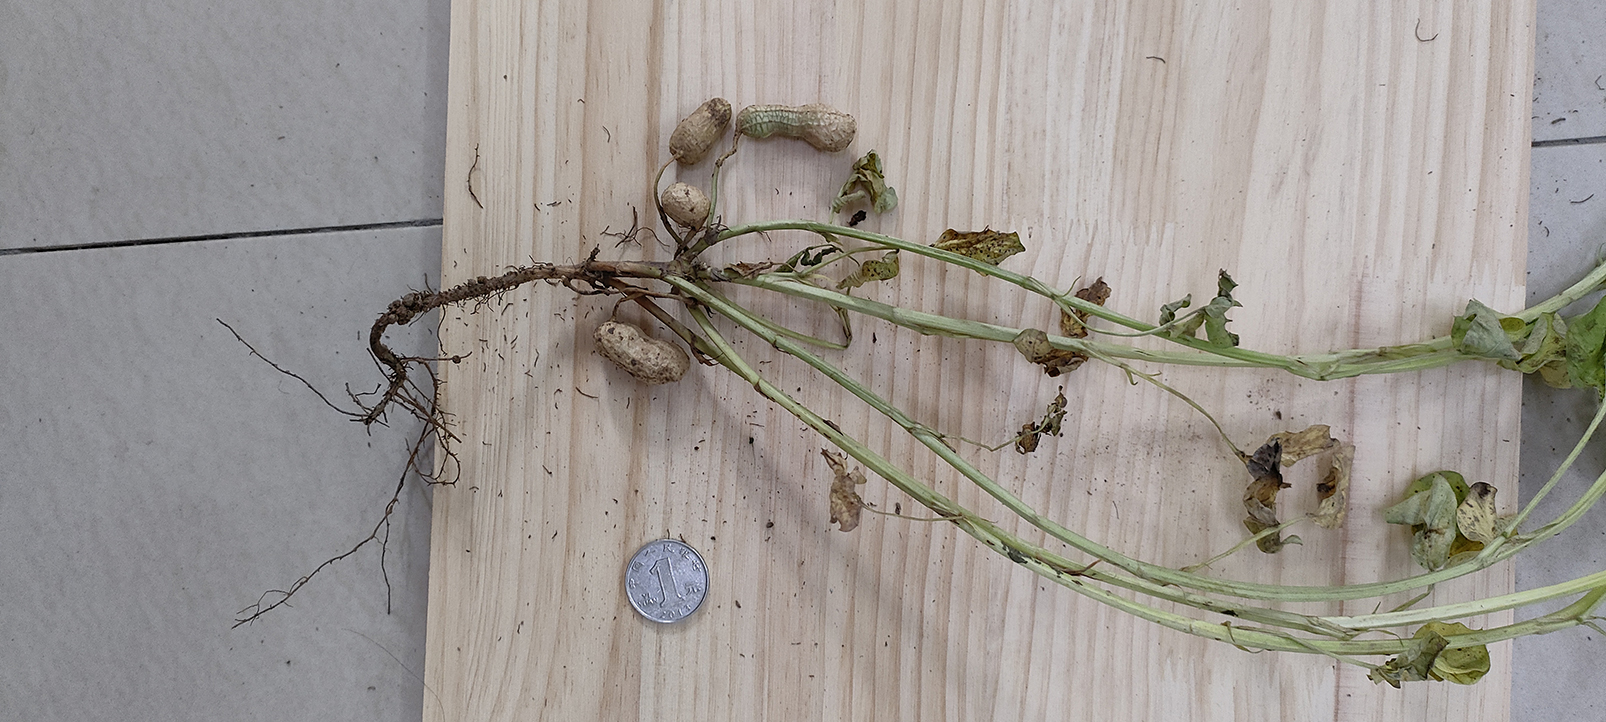h: (596, 318, 691, 384), (737, 102, 855, 151), (666, 98, 732, 165), (656, 180, 710, 229)
